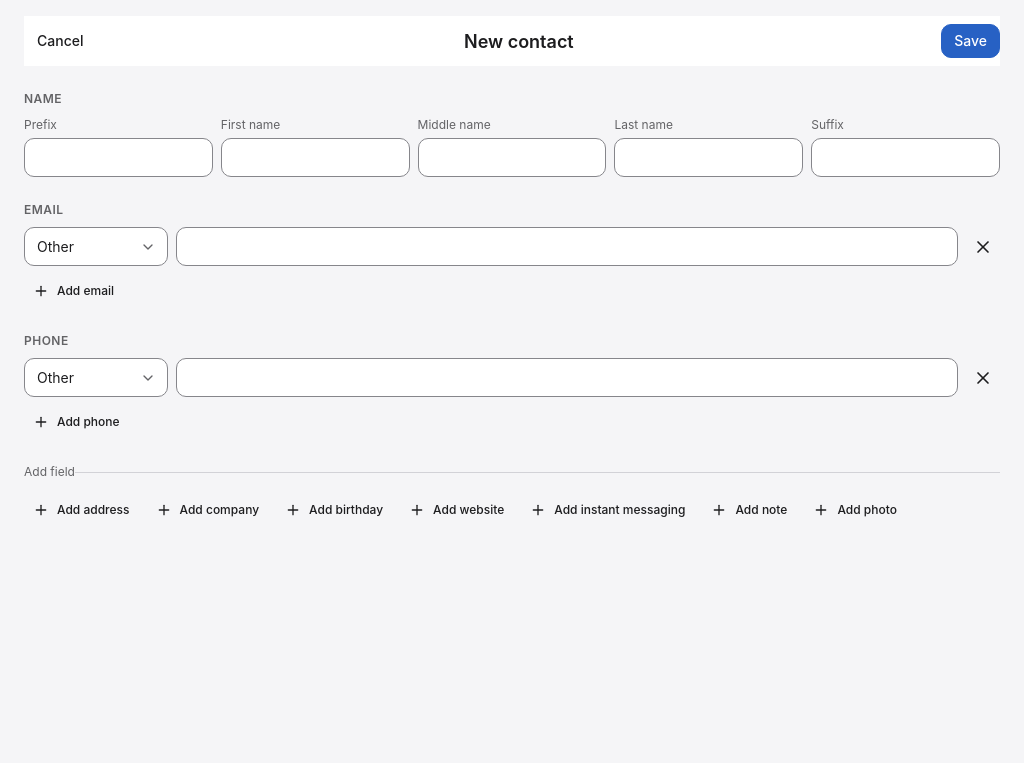
ContactForm progressive disclosure (FR-CON-02) › hides Address / Birthday / Notes / Photo until revealed from the add-field bar
Check: the field labelled "First name" is shown, box [221, 138, 410, 177]
Check: the field named "Email" is shown, box [176, 227, 958, 266]
Click the button "Add address" at (81, 510), box [24, 493, 138, 527]
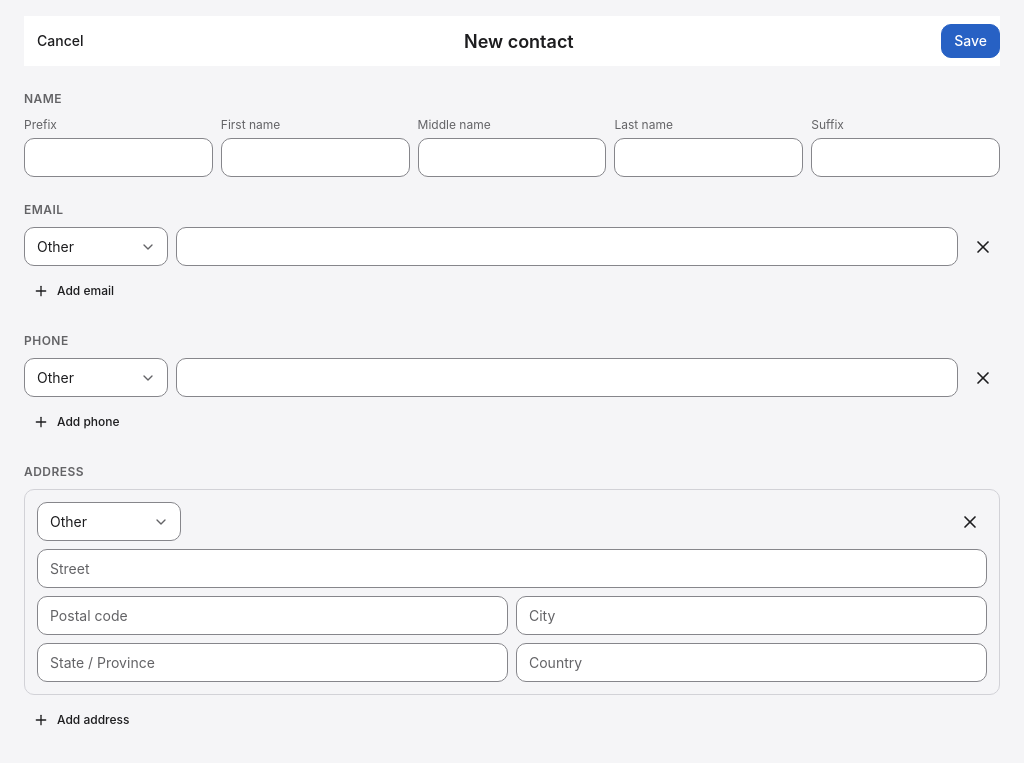
Check: the heading "Address" is shown, box [24, 464, 84, 479]
Check: the field labelled "Street" is shown, box [37, 549, 987, 588]
